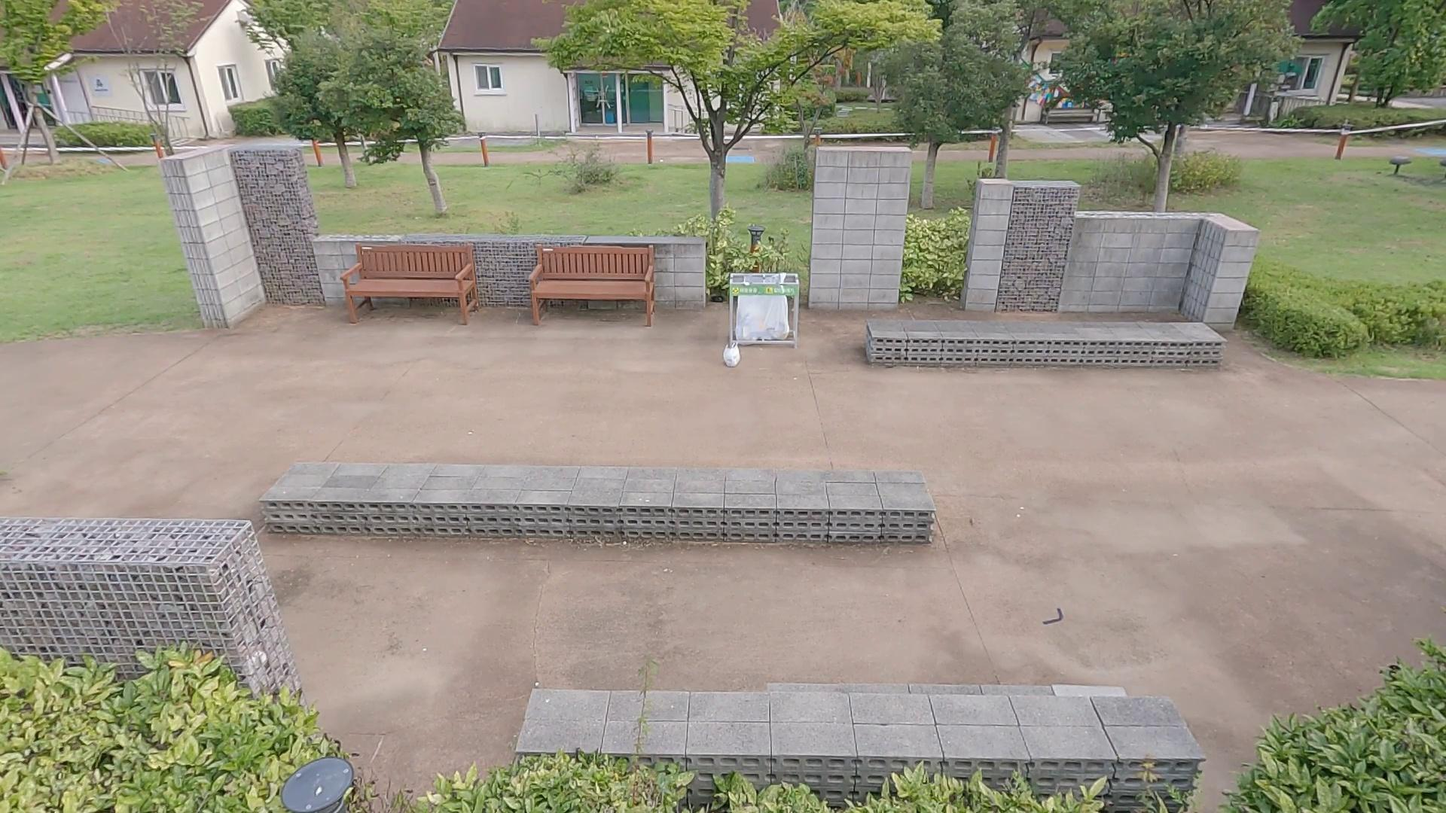trash: (717, 338, 746, 371)
